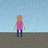person: (14, 15, 25, 37)
